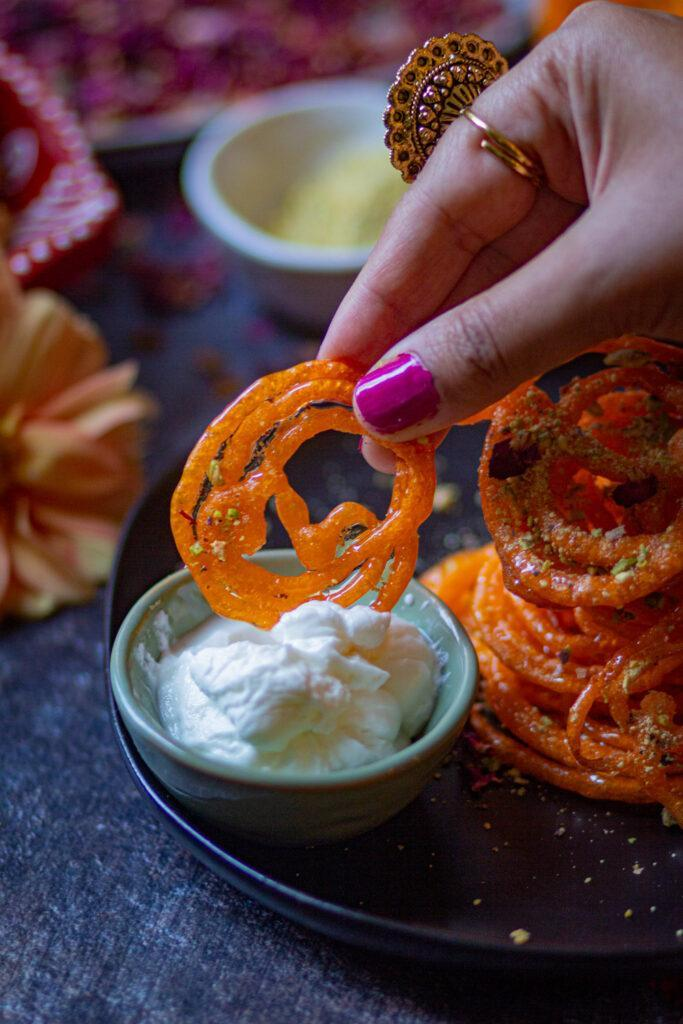jalebi: (475, 339, 683, 817), (172, 346, 425, 627)
